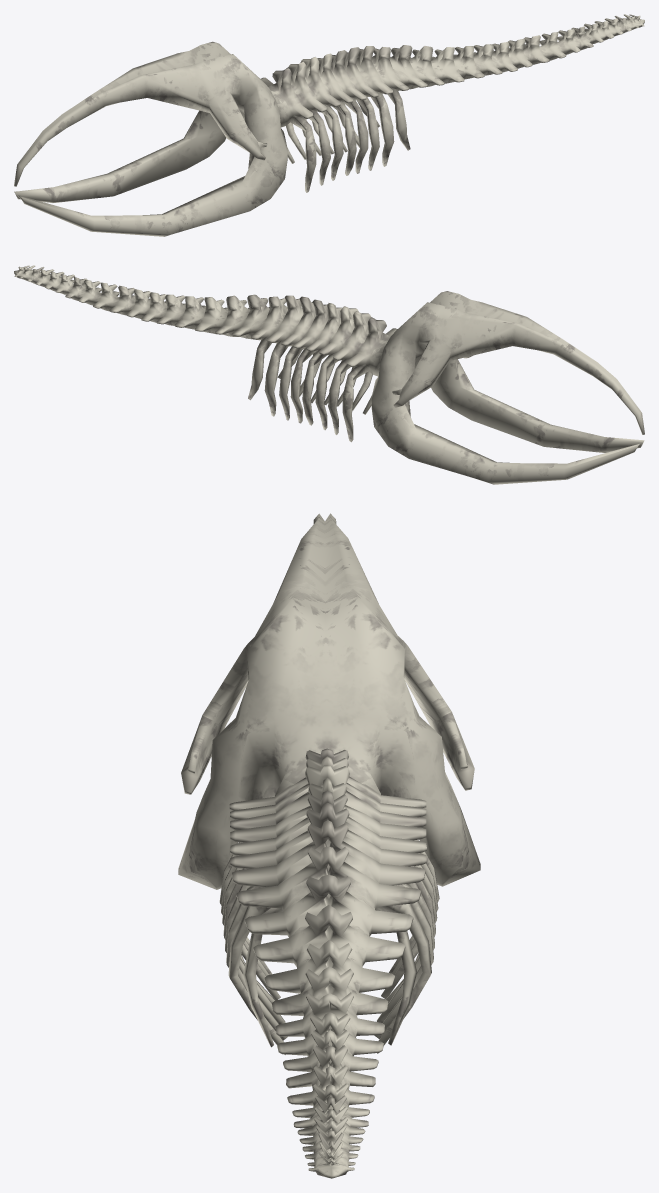
File: bowheadWhaleSkele00a.fbx
3 renders of one model, top to bottom at view 1: azimuth 30°, elevation 25°; view 2: azimuth 150°, elevation 25°; view 3: azimuth 270°, elevation 25°, orthographic. The views are drawn at different scales.
Visible parts, largest first — view 1: bowheadWhaleSkel_a; view 2: bowheadWhaleSkel_a; view 3: bowheadWhaleSkel_a.
Part boxes in pixels (bbox=[...]): bowheadWhaleSkel_a: bbox=[14, 14, 644, 236]; bowheadWhaleSkel_a: bbox=[14, 265, 644, 484]; bowheadWhaleSkel_a: bbox=[178, 513, 480, 1178].
Size of the model in its own units: 33.17 by 7.66 by 6.91.
1 material, 1 textured.
